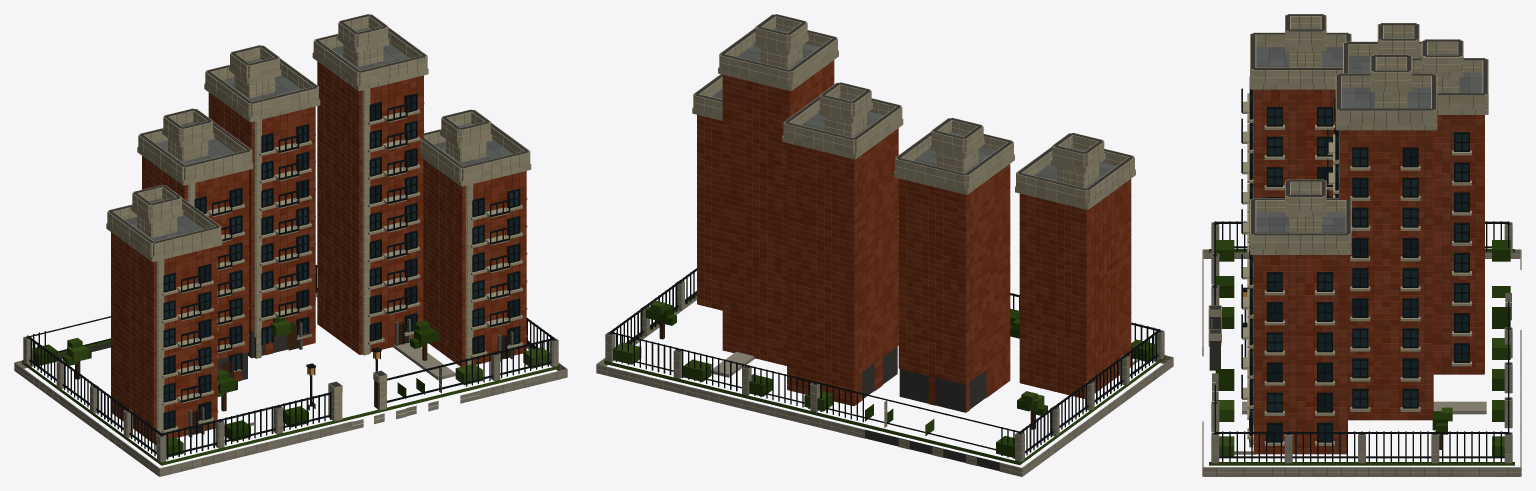
File: SM_StreetFrontage_077.fbx
The picture shows the model from 3 angles, left to right: view 1: azimuth 30°, elevation 25°; view 2: azimuth 150°, elevation 25°; view 3: azimuth 270°, elevation 25°; orthographic projection. The views are drawn at different scales.
Visible parts, largest first — view 1: SM_StreetFrontage_077; view 2: SM_StreetFrontage_077; view 3: SM_StreetFrontage_077.
Boxes of the visible parts, x1,y1,x2,y2 form: SM_StreetFrontage_077: (14, 14, 567, 476); SM_StreetFrontage_077: (596, 14, 1173, 476); SM_StreetFrontage_077: (1202, 14, 1521, 476).
Bounding box in the file's own units: 32 × 19.74 × 23.89.
